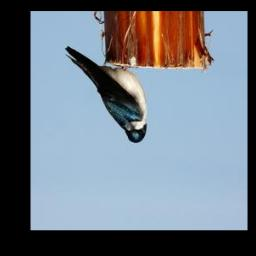Swallow: (64, 45, 148, 145)
